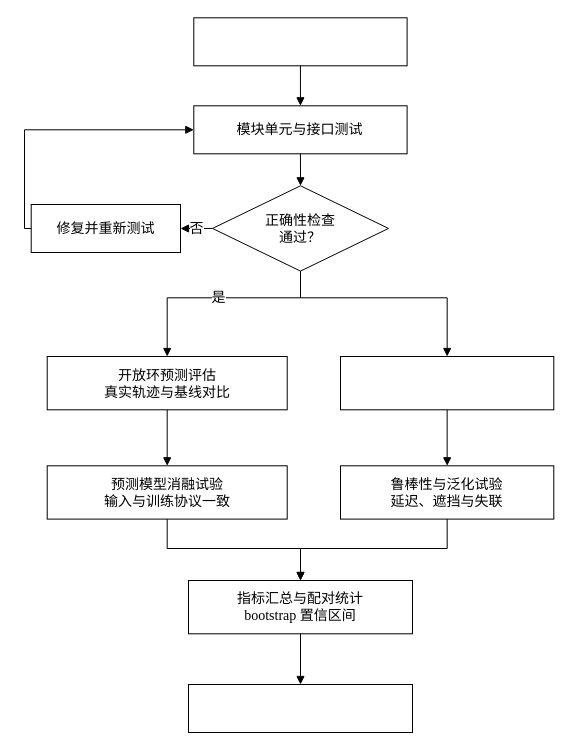
This 572x750 diagram has some shape labels left out. Here are the shapes that lost their labels. From the top down, the centre of each, then its label:
At point (300, 41): "冻结数据与评价协议".
At point (447, 383): "闭环避撞评估 CARLA 配对场景".
At point (300, 708): "结果分析与可复核记录".
